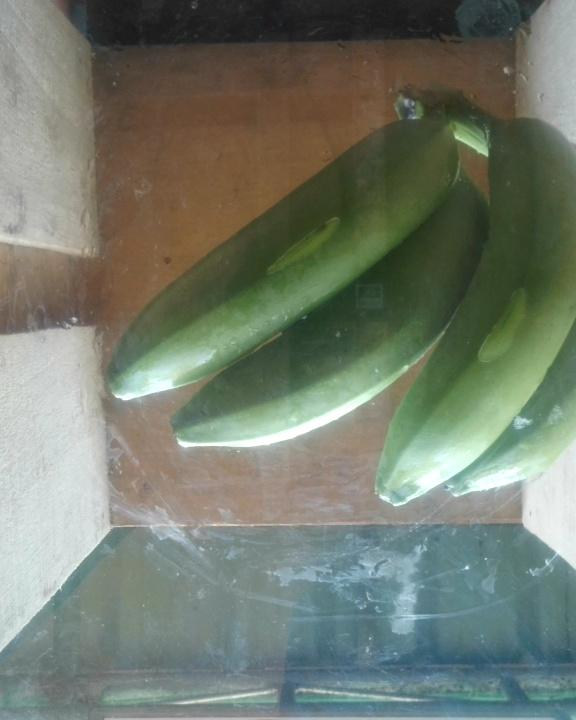SPOT: (94, 79, 576, 511)
